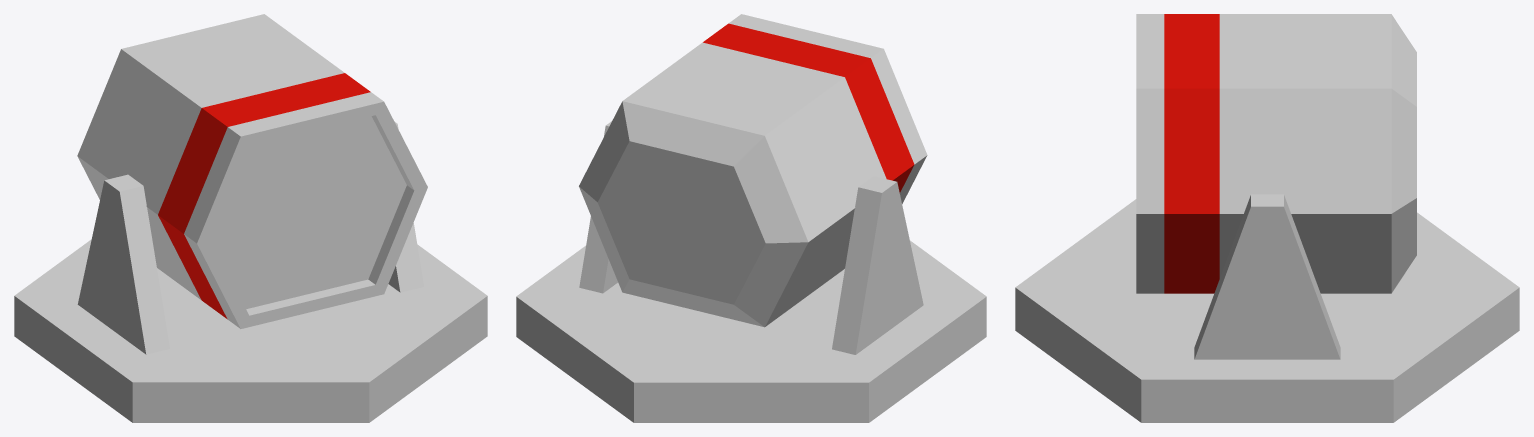
The model's file is TurretRocketArray.fbx.
3 views of the same model, side by side, from view 1: azimuth 30°, elevation 25°; view 2: azimuth 150°, elevation 25°; view 3: azimuth 270°, elevation 25° (orthographic). The views are drawn at different scales.
Visible parts, largest first — view 1: TurretMissileArray; view 2: TurretMissileArray; view 3: TurretMissileArray.
Boxes of the visible parts, <box> form: TurretMissileArray: <box>14,14,487,422</box>; TurretMissileArray: <box>516,14,986,422</box>; TurretMissileArray: <box>1015,14,1519,422</box>.
Bounding box in the file's own units: 32.69 × 23.08 × 37.75.
